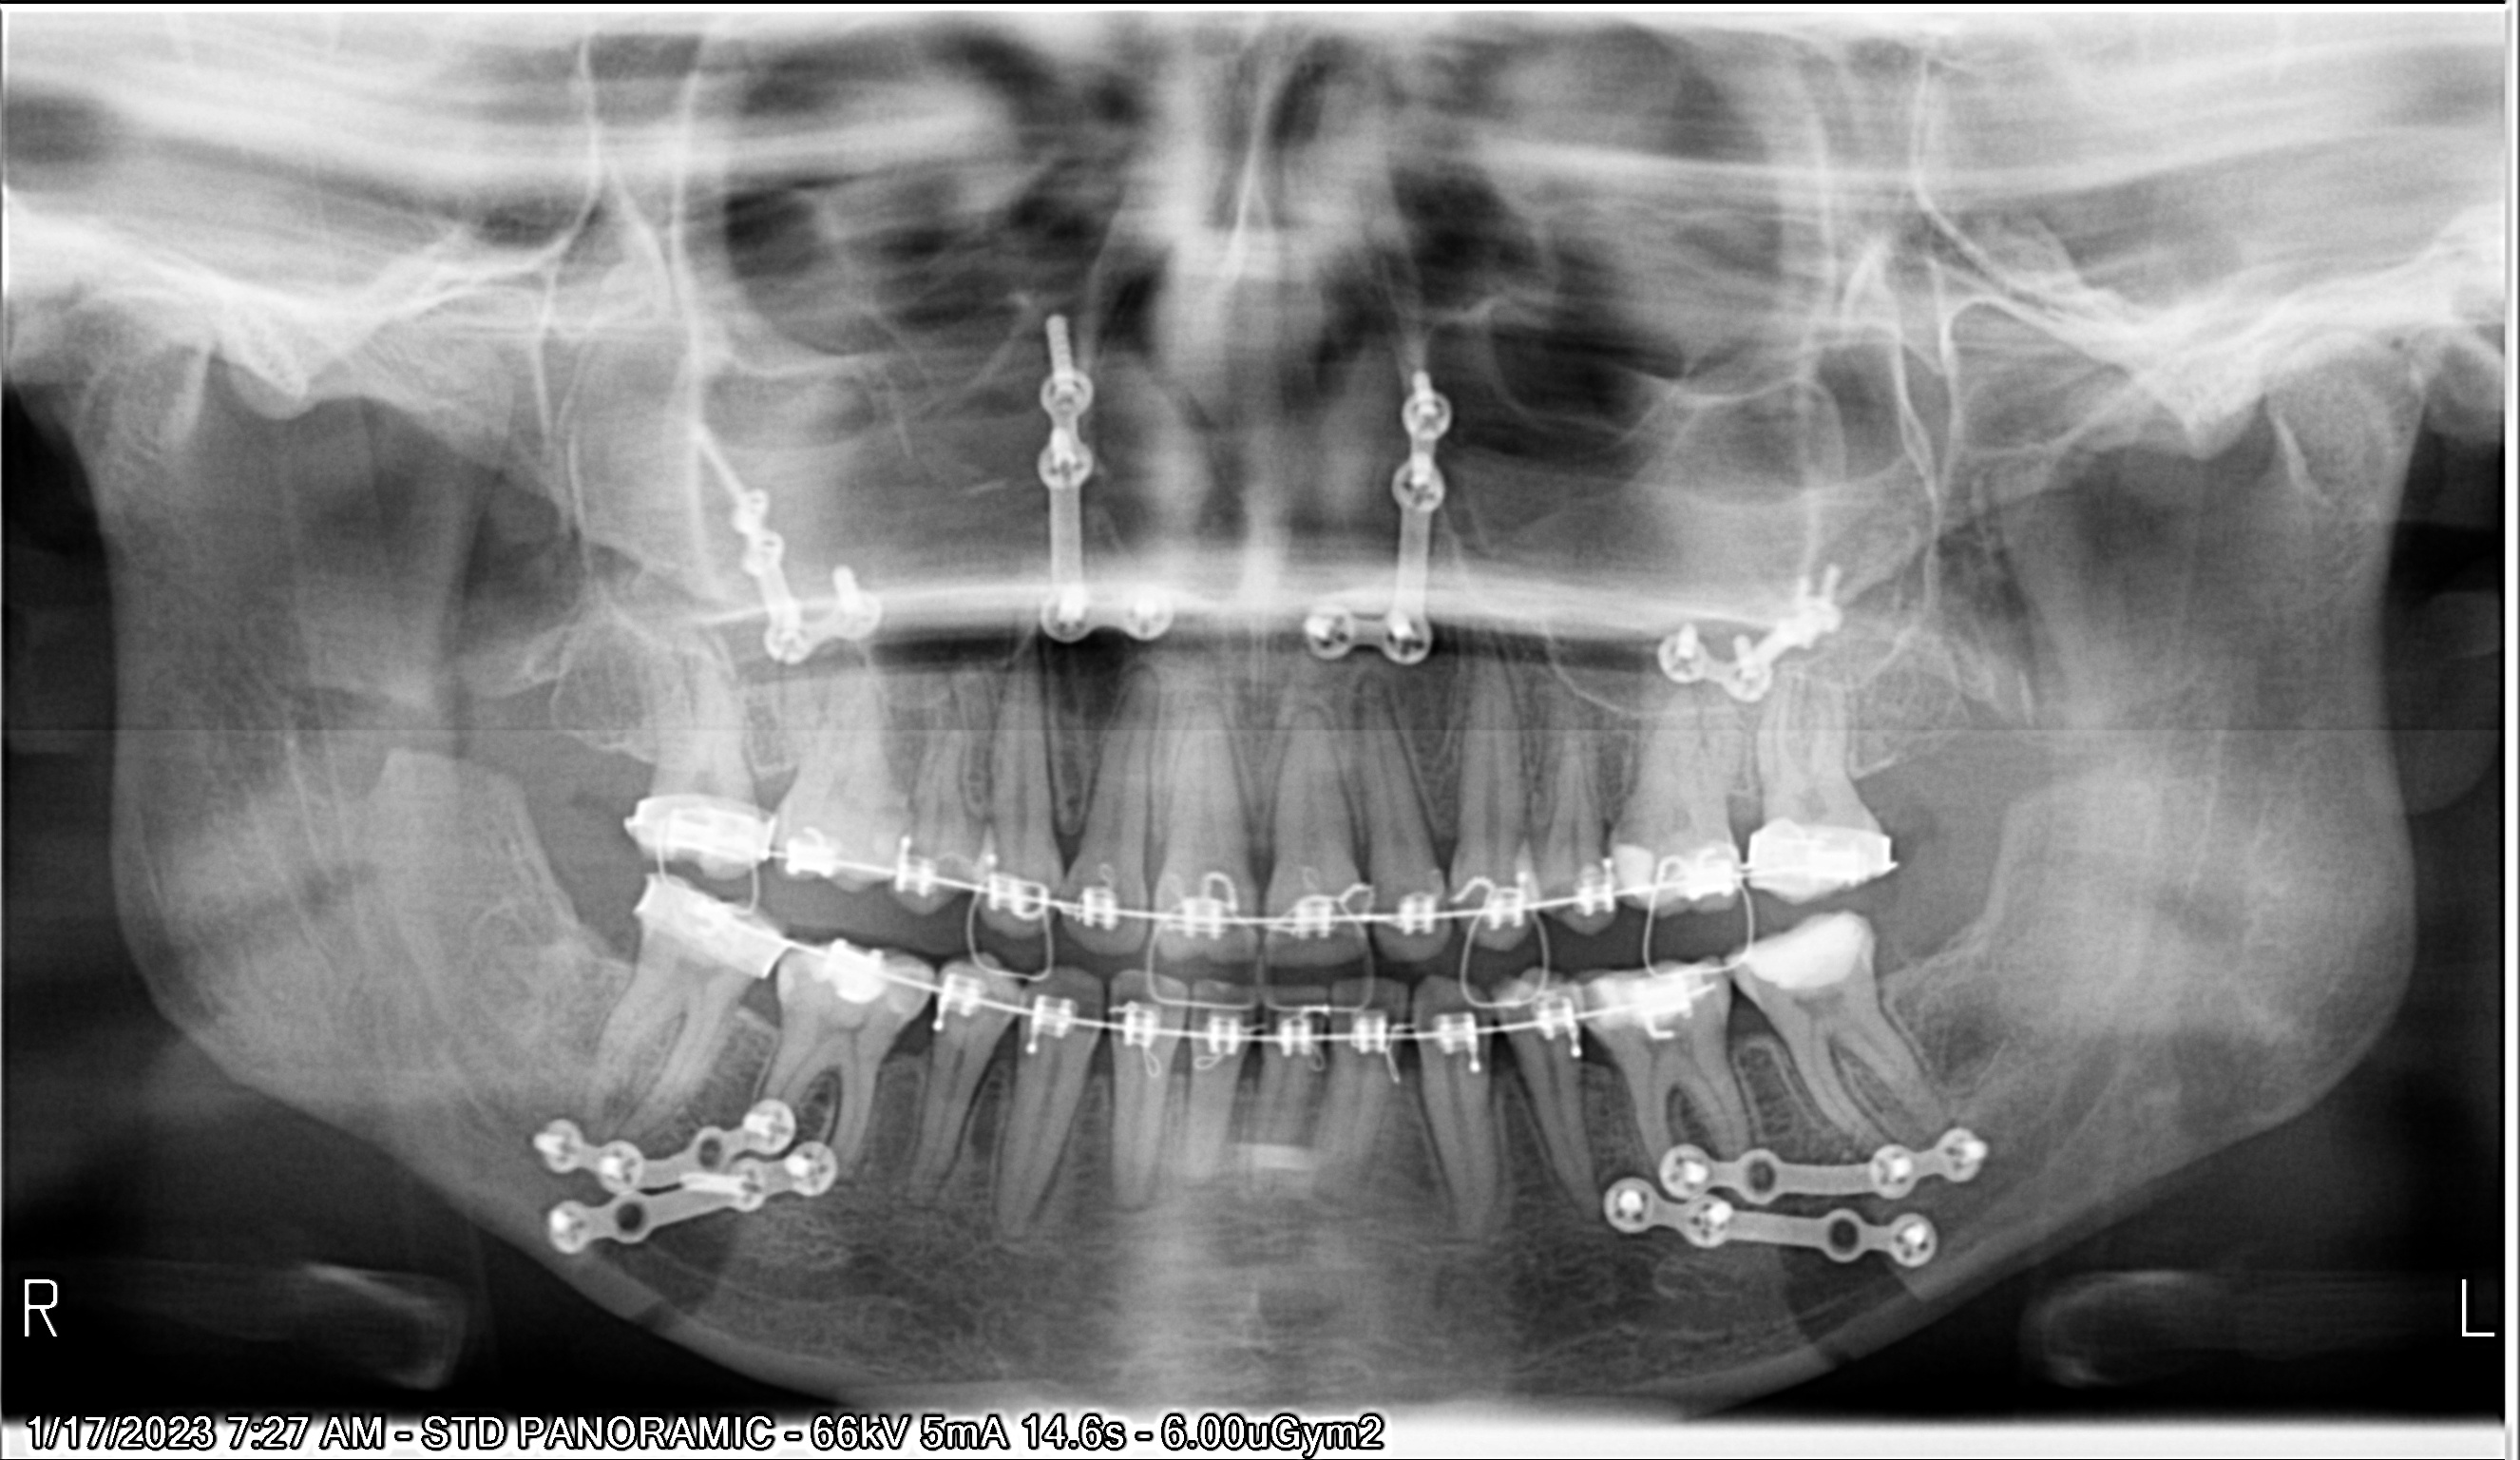ORD: (0, 337, 1535, 1437), (0, 271, 1579, 1257)
SRD: (589, 415, 2520, 1460), (549, 455, 2520, 1460), (637, 151, 2520, 879), (493, 5, 1982, 690), (30, 495, 940, 1460), (76, 438, 887, 1460), (366, 0, 1586, 634), (167, 17, 1091, 742)
